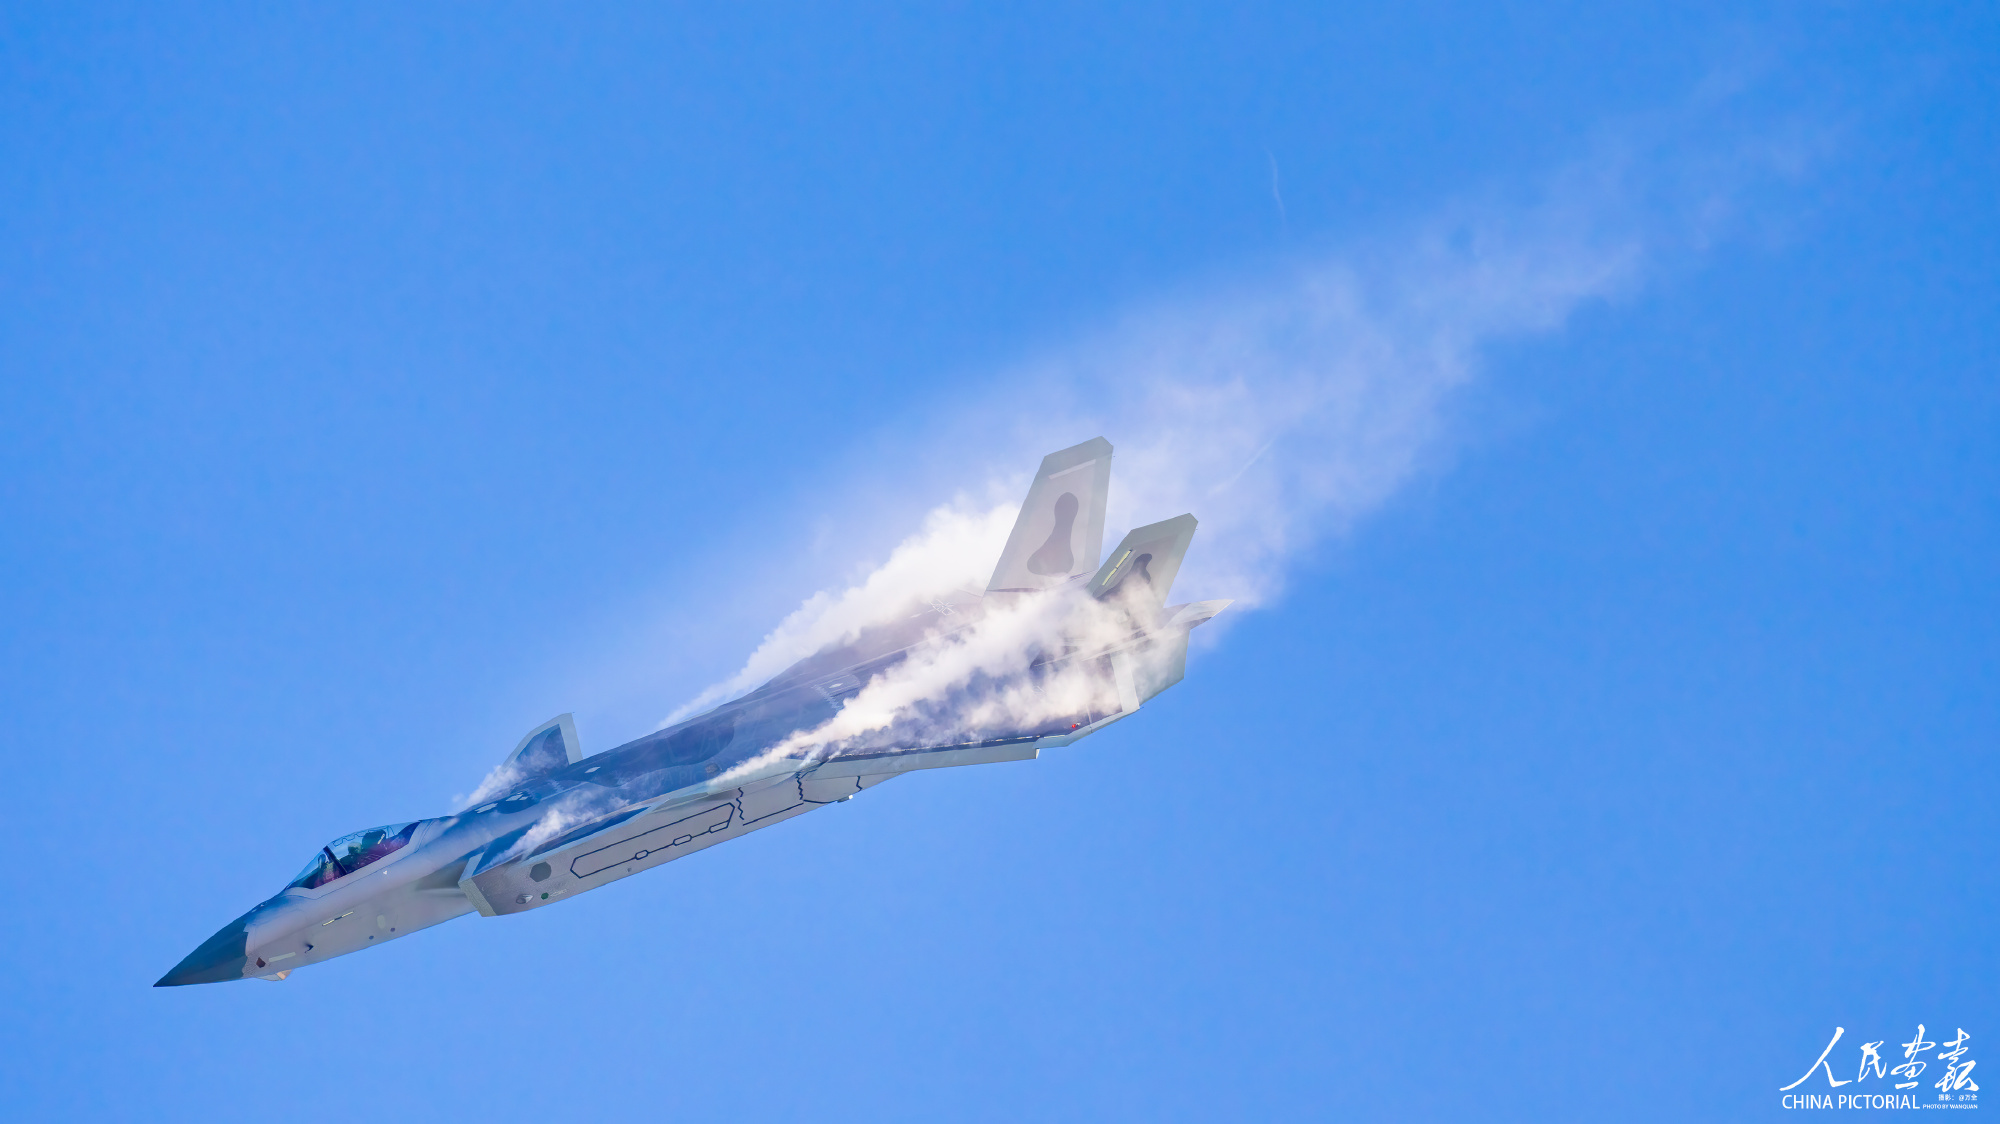J20: (152, 434, 1236, 988)
